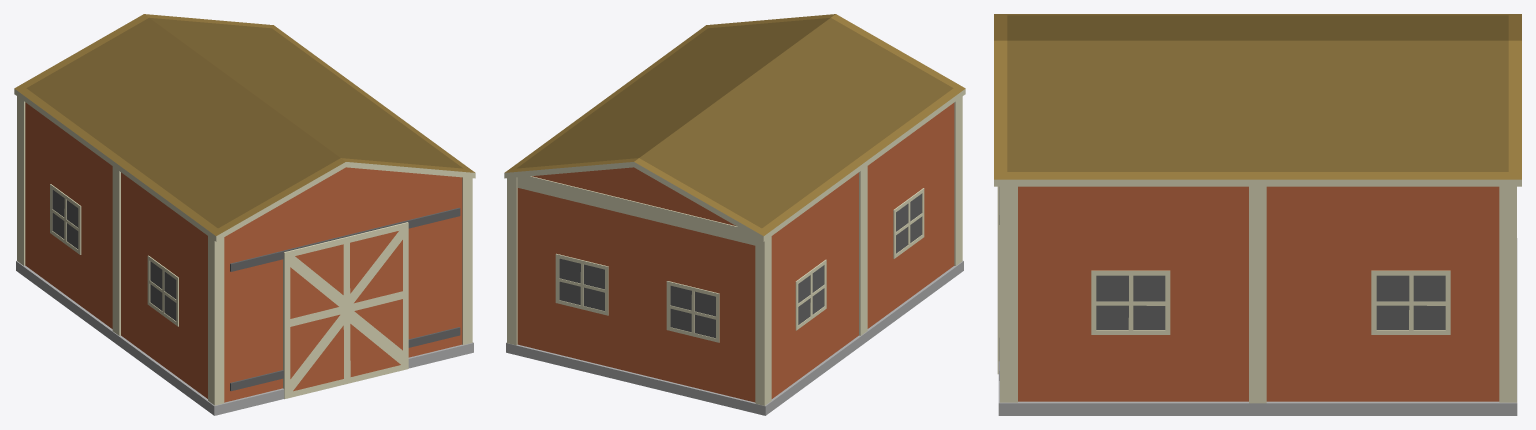
Rendered from houses1.fbx.
The picture shows the model from 3 angles, left to right: view 1: azimuth 30°, elevation 25°; view 2: azimuth 150°, elevation 25°; view 3: azimuth 270°, elevation 25°; orthographic projection. The views are drawn at different scales.
Parts seen in each view (by area): view 1: Cube; view 2: Cube; view 3: Cube.
Boxes of the visible parts, box(x1,y1,x2,y2) form: Cube: box(14, 14, 475, 415); Cube: box(504, 14, 965, 415); Cube: box(994, 14, 1521, 415).
Bounding box in the file's own units: 618 × 509 × 833.
